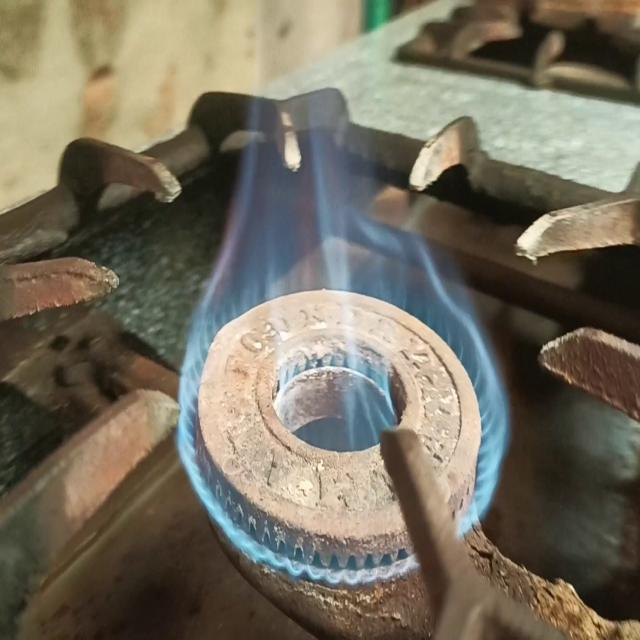Fire: (180, 50, 509, 588)
